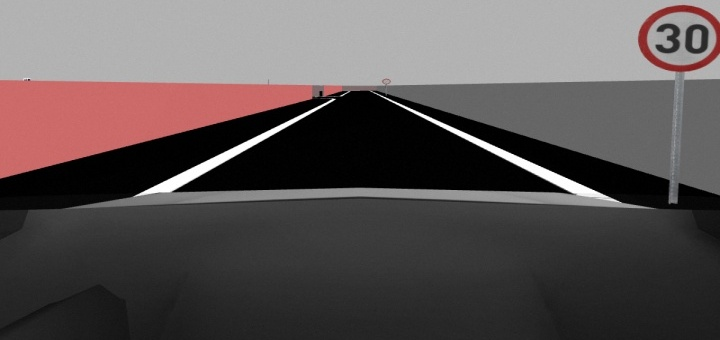hiz_30: (631, 3, 720, 73)
